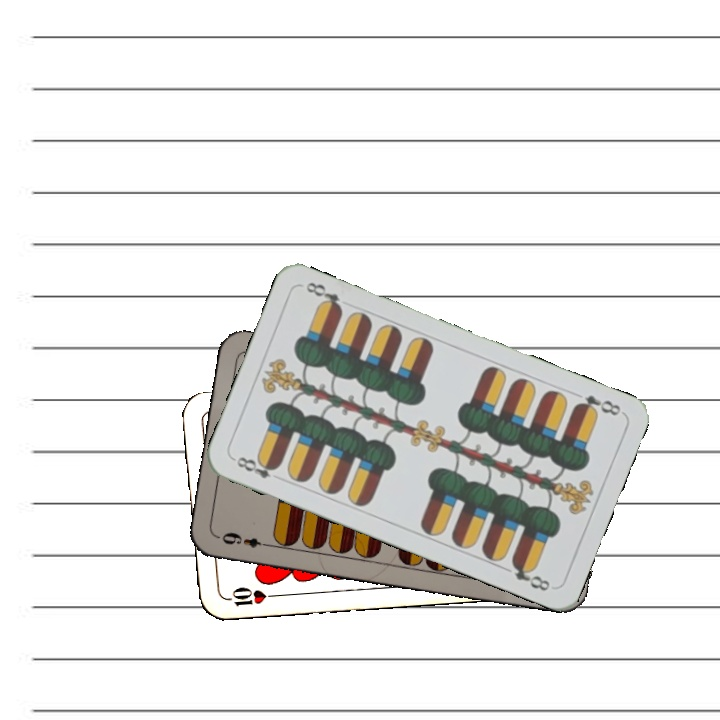E8: (229, 452, 282, 482), (570, 390, 624, 419)
E9: (215, 528, 274, 550)
H10: (220, 583, 280, 609)
